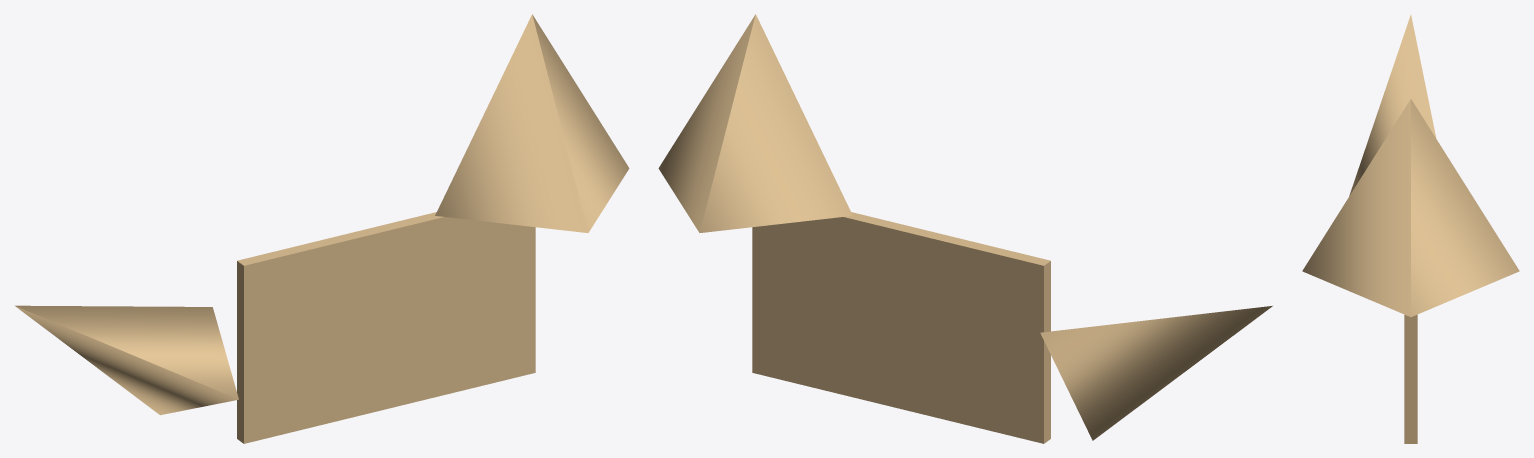
File: canvas-hero-puppy.gltf
3 views of the same model, side by side, from view 1: azimuth 30°, elevation 25°; view 2: azimuth 150°, elevation 25°; view 3: azimuth 270°, elevation 25° (orthographic). The views are drawn at different scales.
Parts seen in each view (by area): view 1: Body, Head, Tail; view 2: Body, Head, Tail; view 3: Head, Tail, Body.
Boxes of the visible parts, left/top/right/bottom form: Body: left=237, top=212, right=535, bottom=443; Head: left=435, top=14, right=629, bottom=232; Tail: left=15, top=305, right=238, bottom=415; Body: left=752, top=212, right=1050, bottom=443; Head: left=658, top=14, right=852, bottom=232; Tail: left=1040, top=306, right=1272, bottom=440; Head: left=1302, top=99, right=1519, bottom=316; Tail: left=1349, top=14, right=1436, bottom=195; Body: left=1404, top=314, right=1417, bottom=443.
Bounding box in the file's own units: 0.5059 × 0.28 × 0.16.
